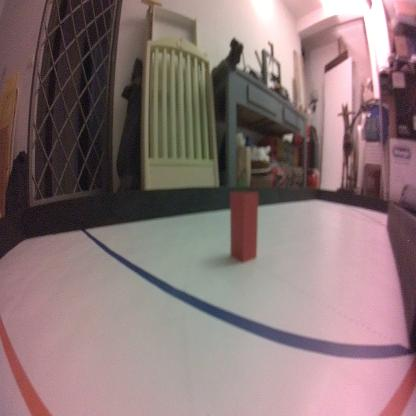red: (229, 188, 259, 261)
